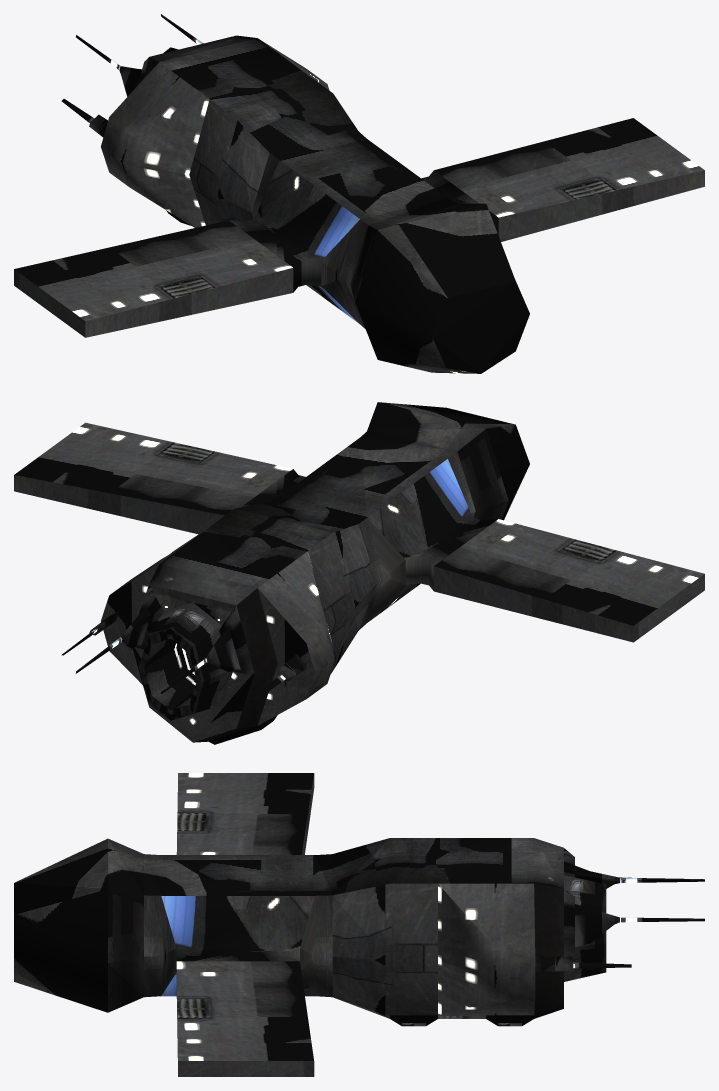
The model's file is ts2_modi.fbx.
3 views of the same model, one above another, from view 1: azimuth 30°, elevation 25°; view 2: azimuth 150°, elevation 25°; view 3: azimuth 270°, elevation 25° (orthographic). The views are drawn at different scales.
Visible parts, largest first — view 1: ts2_modi; view 2: ts2_modi; view 3: ts2_modi.
Part boxes in pixels (x1,y1,x2,y2): ts2_modi: (14, 14, 704, 373); ts2_modi: (14, 402, 704, 744); ts2_modi: (14, 773, 704, 1076).
Size of the model in its own units: 132 by 35.32 by 134.
Materials: 1 (1 with a texture image).
